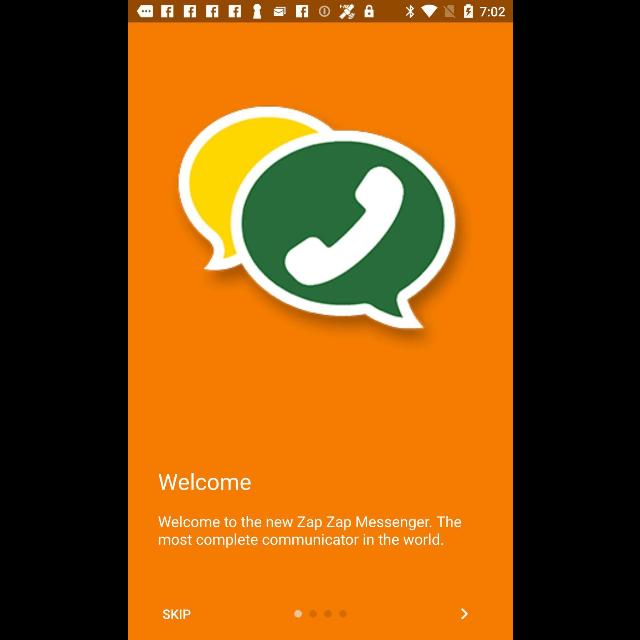icon: (460, 608, 468, 620)
image: (177, 106, 455, 330)
pageindicator: (294, 610, 346, 618)
text: (157, 516, 461, 548), (157, 473, 250, 491), (162, 608, 190, 620)
uppertaskbar: (128, 1, 512, 23)
